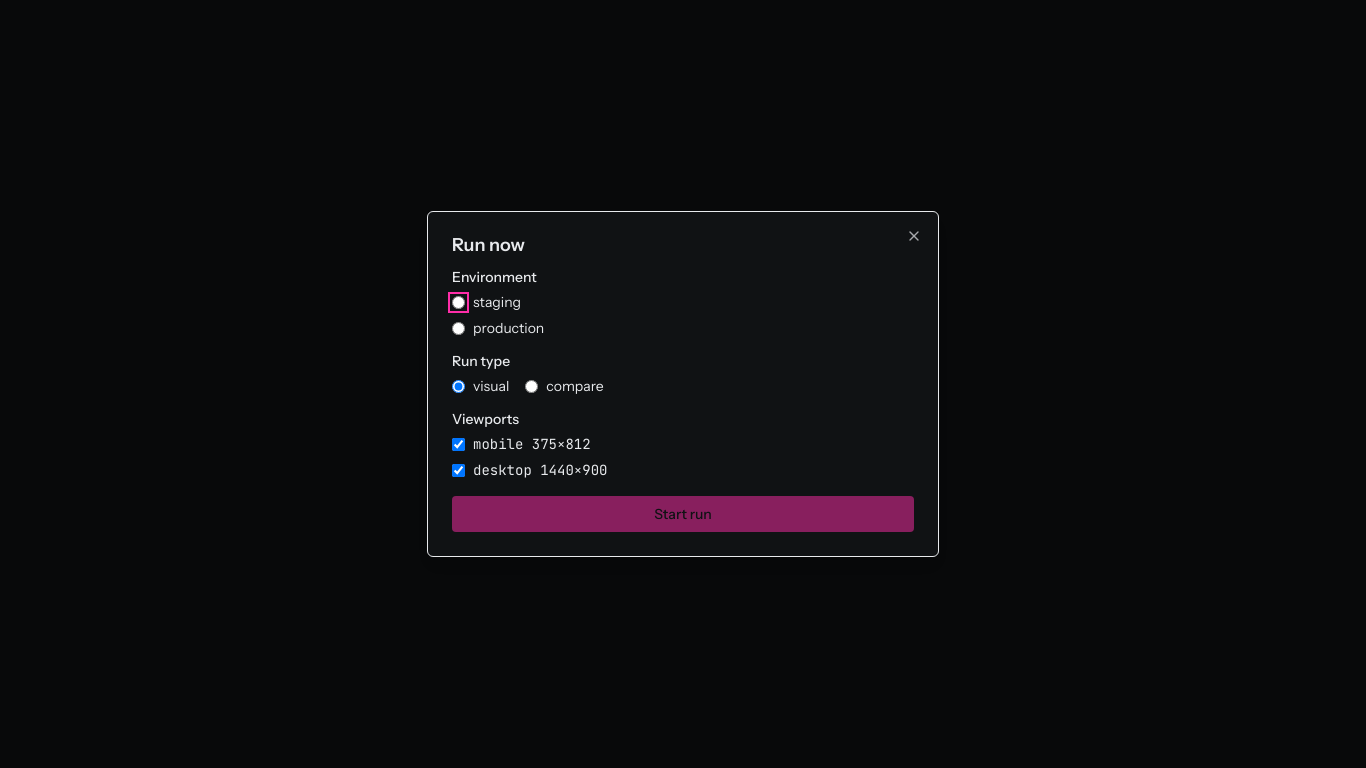
Test: RunNowDialog › requires a reference environment for compare runs
Click the radio button labelled "staging". click: {"x": 458, "y": 302}
box: [452,296,465,308]
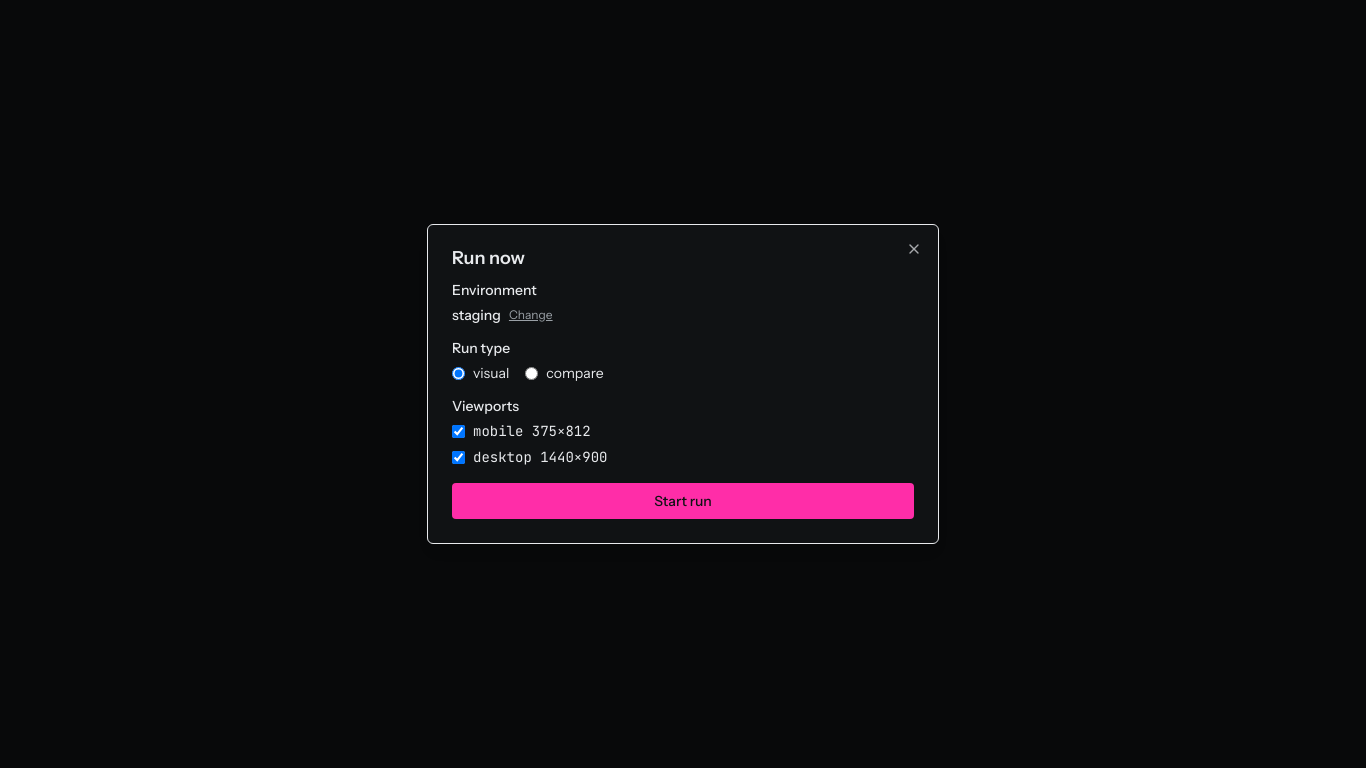
Click the radio button labelled "compare". click: {"x": 532, "y": 373}
box: [525,366,538,380]
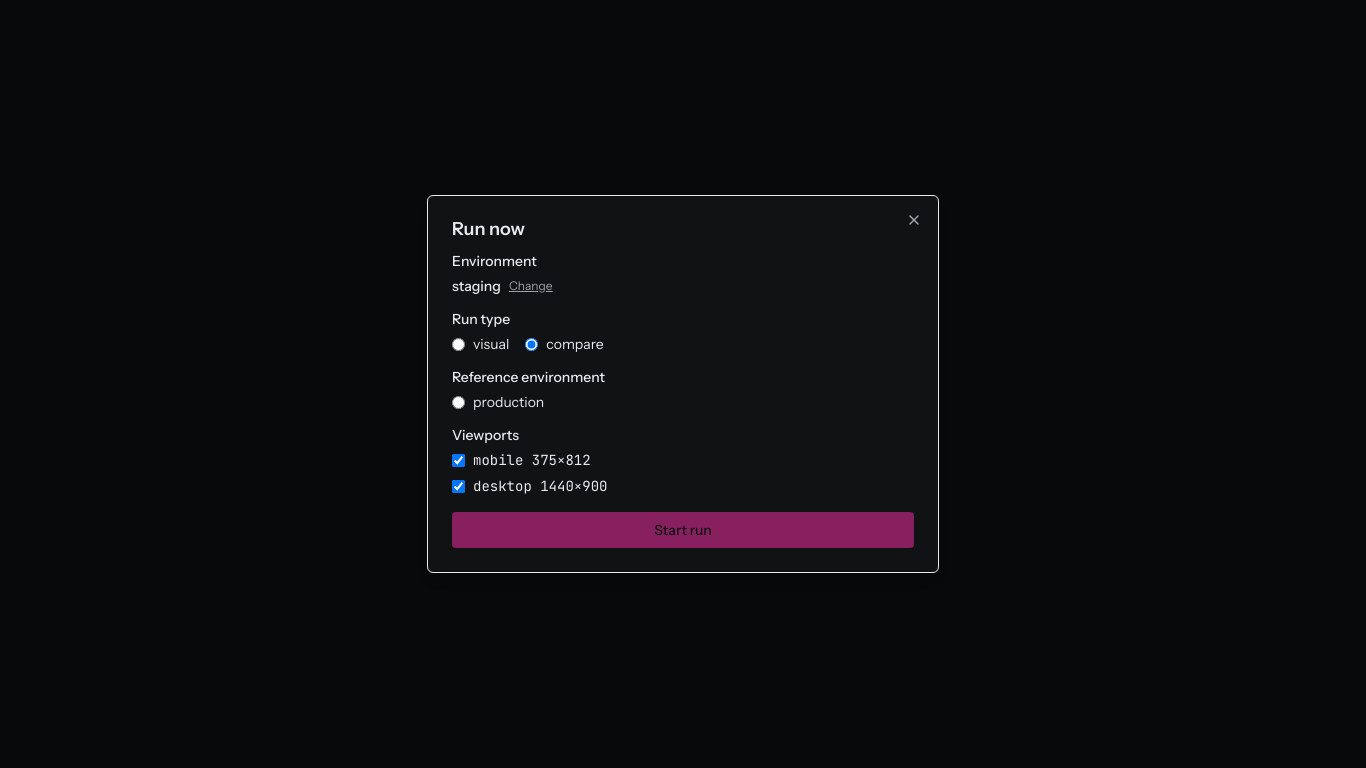
Now the button "Start run" is disabled, box [452,512,914,548]
Click the radio button labelled "production". click: {"x": 458, "y": 402}
box: [452,396,465,408]
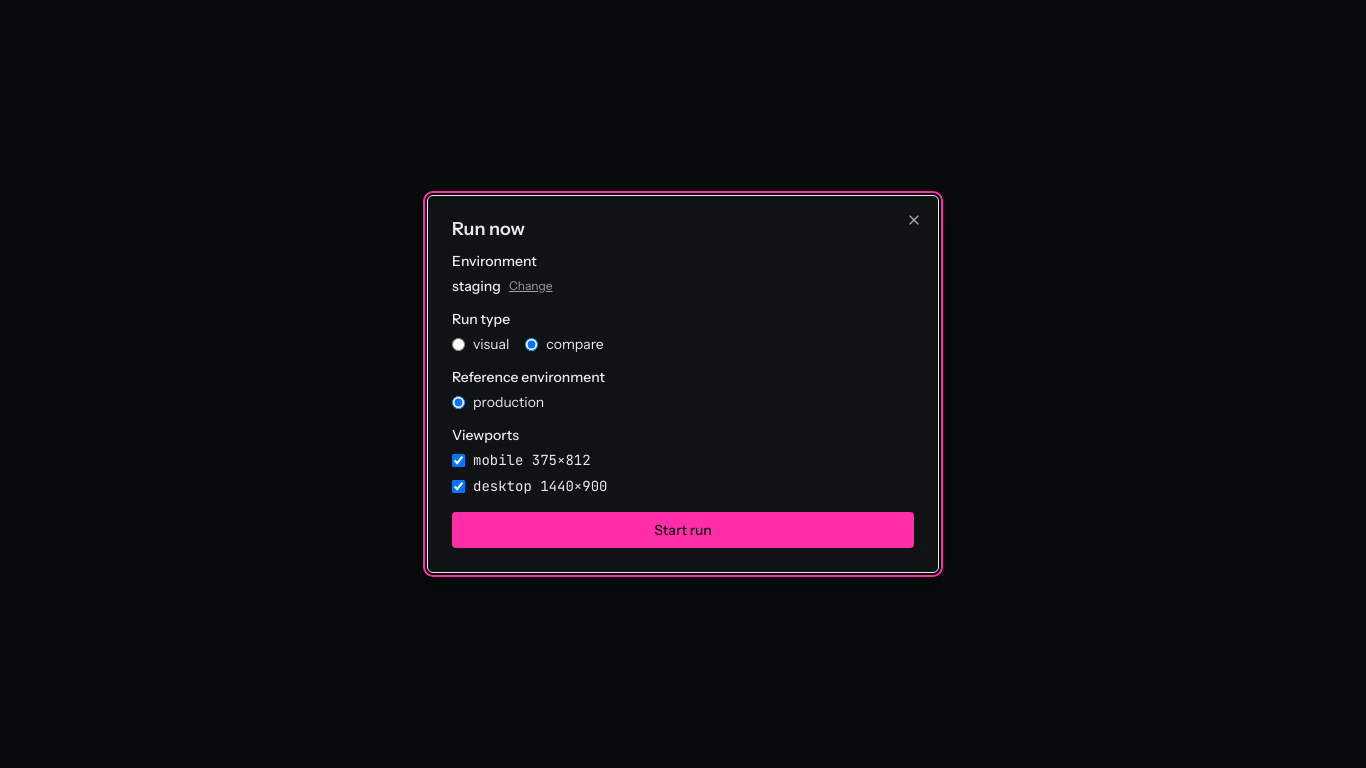
Now the button "Start run" is enabled, box [452,512,914,548]
